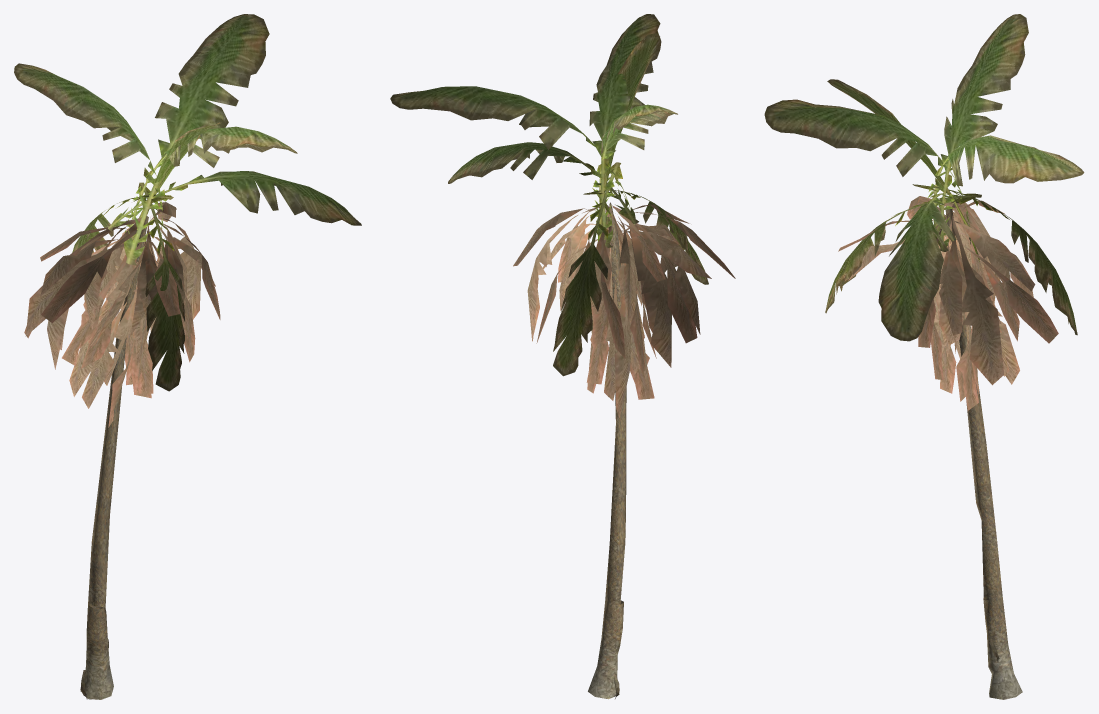
File: palm_far.glb
3 renders of one model, left to right at view 1: azimuth 30°, elevation 25°; view 2: azimuth 150°, elevation 25°; view 3: azimuth 270°, elevation 25°, orthographic. The views are drawn at different scales.
Parts seen in each view (by area): view 1: Palm Tree_M_01_L, Palm Tree_M_01_T; view 2: Palm Tree_M_01_L, Palm Tree_M_01_T; view 3: Palm Tree_M_01_L, Palm Tree_M_01_T.
Boxes of the visible parts, x1,y1,x2,y2 form: Palm Tree_M_01_L: [14, 14, 361, 699]; Palm Tree_M_01_T: [80, 216, 148, 699]; Palm Tree_M_01_L: [390, 14, 735, 698]; Palm Tree_M_01_T: [588, 202, 626, 699]; Palm Tree_M_01_L: [764, 14, 1084, 662]; Palm Tree_M_01_T: [945, 209, 1022, 699].
Size of the model in its own units: 4.07 by 8.08 by 3.62.
4 materials, 4 textured.
